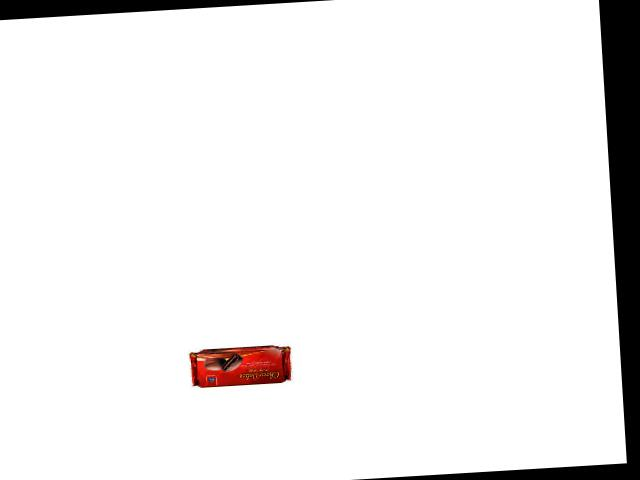chocolate: (186, 335, 293, 388)
